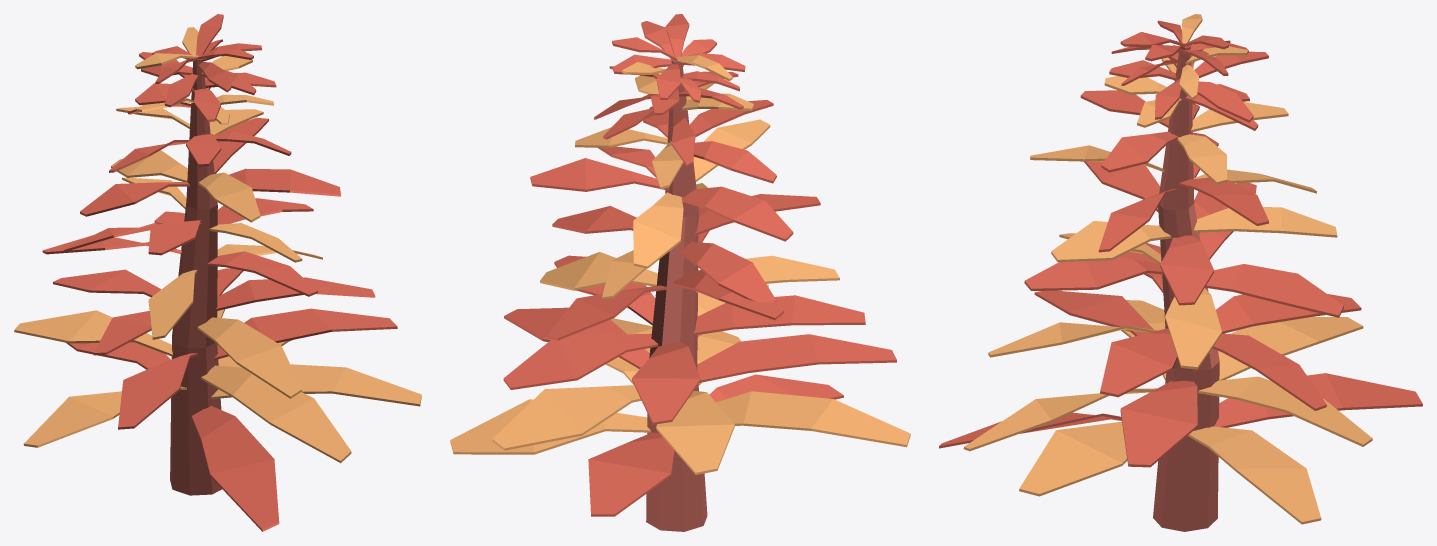
Rendered from Tree1_autumn.FBX.
3 views of the same model, side by side, from view 1: azimuth 30°, elevation 25°; view 2: azimuth 150°, elevation 25°; view 3: azimuth 270°, elevation 25° (orthographic). The views are drawn at different scales.
Parts seen in each view (by area): view 1: Tree 1 autumn; view 2: Tree 1 autumn; view 3: Tree 1 autumn.
Boxes of the visible parts, x1=… form: Tree 1 autumn: x1=14, y1=14, x2=421, y2=531; Tree 1 autumn: x1=450, y1=14, x2=910, y2=531; Tree 1 autumn: x1=939, y1=14, x2=1422, y2=531.
Bounding box in the file's own units: 5.26 × 6.06 × 5.38.
